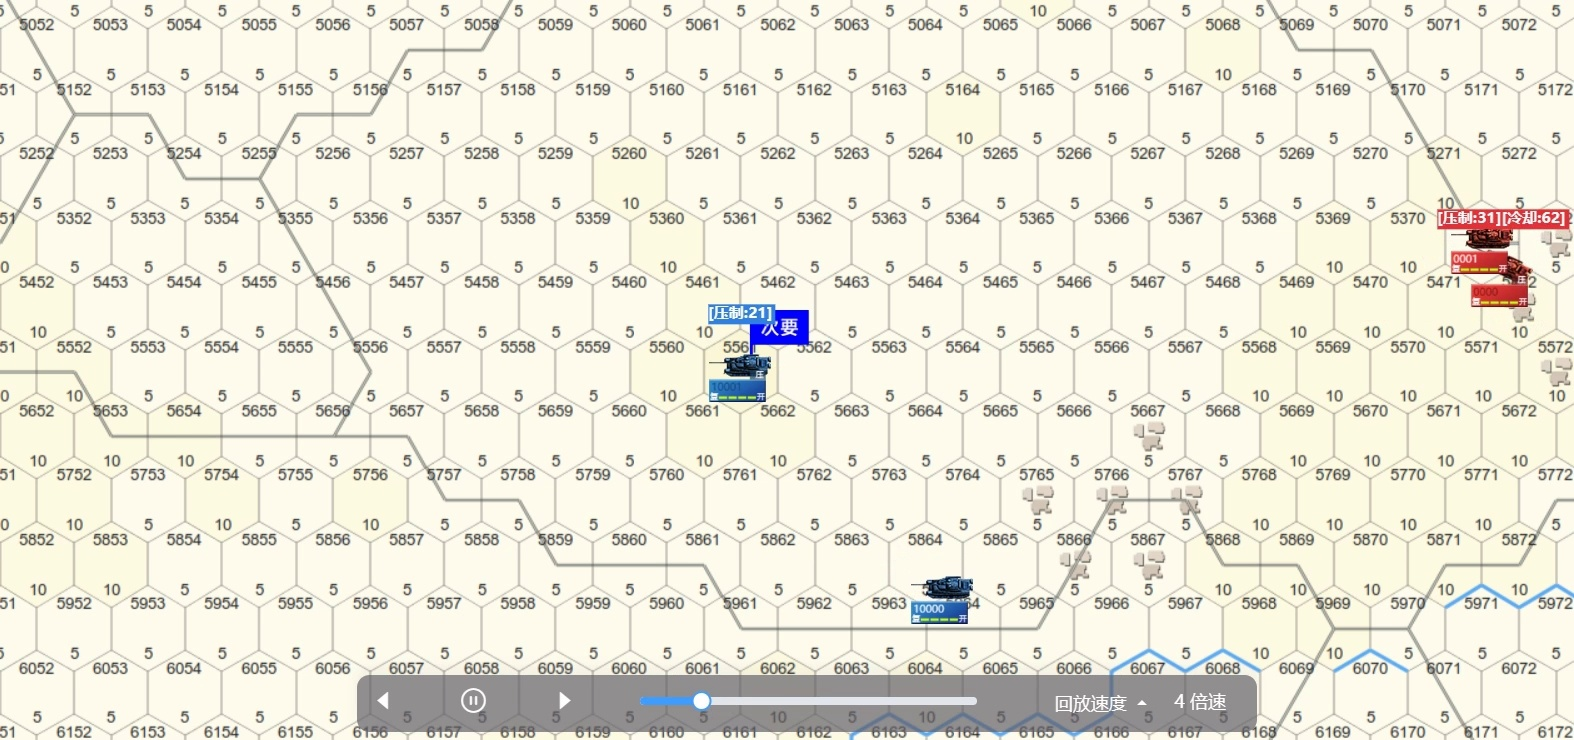blue_tank: (714, 355, 772, 406), (914, 572, 970, 621)
red_tank: (1450, 224, 1512, 270), (1471, 262, 1529, 307)
